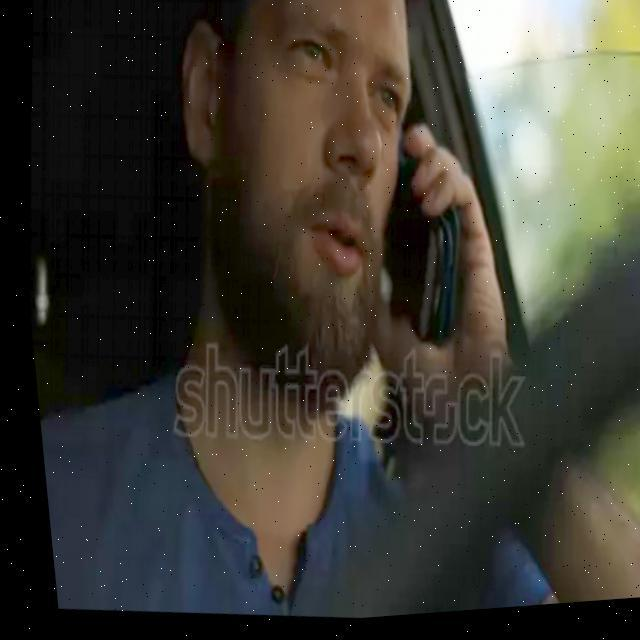PhoneCall: (363, 141, 472, 360)
